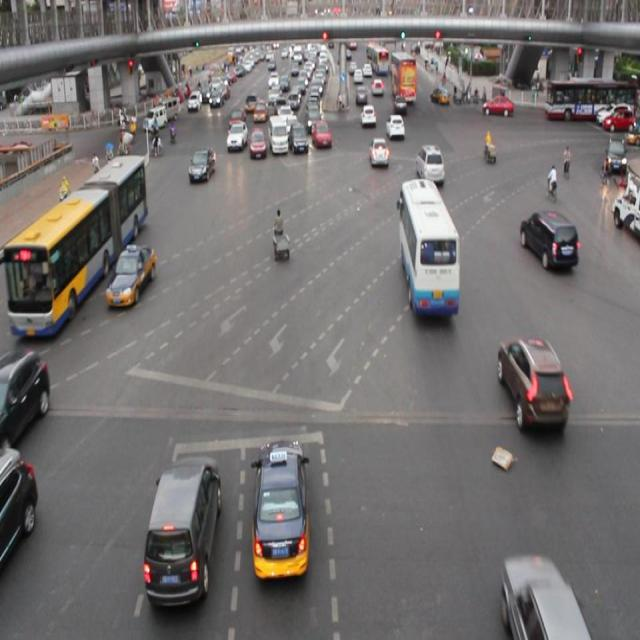car: (252, 439, 310, 579), (498, 337, 568, 429), (1, 348, 51, 438), (1, 446, 34, 566), (519, 209, 576, 271), (107, 242, 155, 309), (415, 145, 446, 186), (188, 147, 215, 185), (288, 121, 309, 155), (310, 118, 331, 150), (368, 136, 389, 168), (225, 121, 247, 150), (248, 128, 266, 160), (385, 113, 404, 139), (359, 103, 376, 129)
truck: (144, 456, 220, 605), (268, 114, 288, 155)
van: (9, 154, 144, 338), (400, 178, 460, 318)
